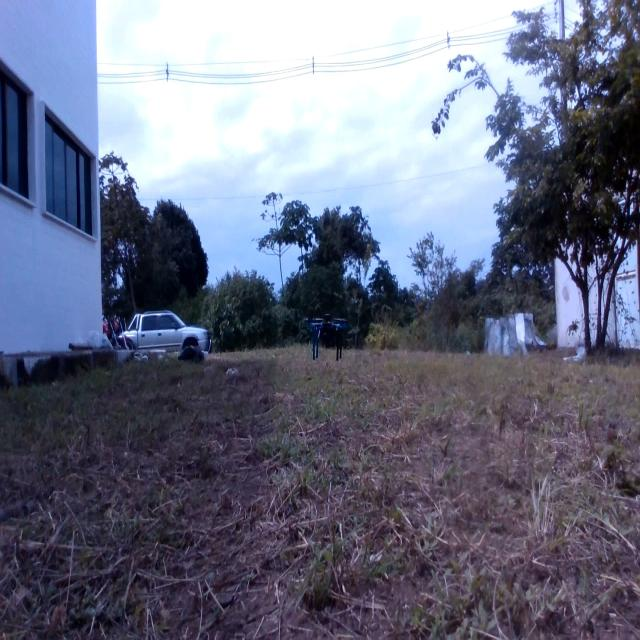-uav-: (299, 291, 355, 370)
